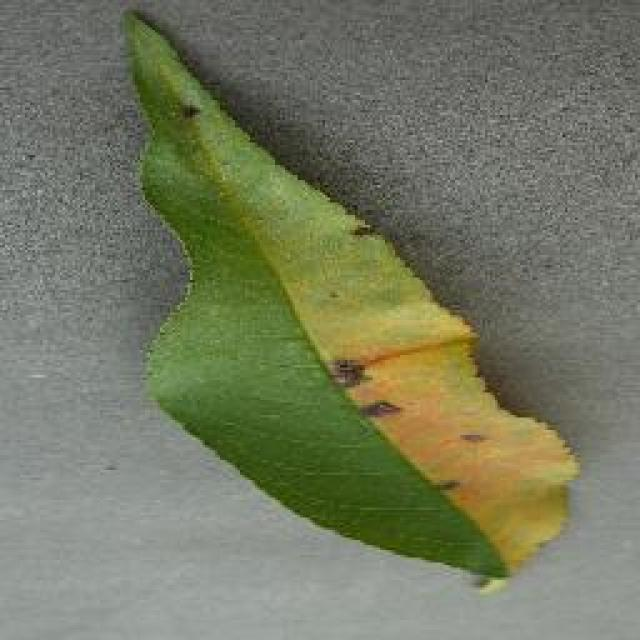Peach_Bacterial_Spot: (208, 153, 455, 517)
